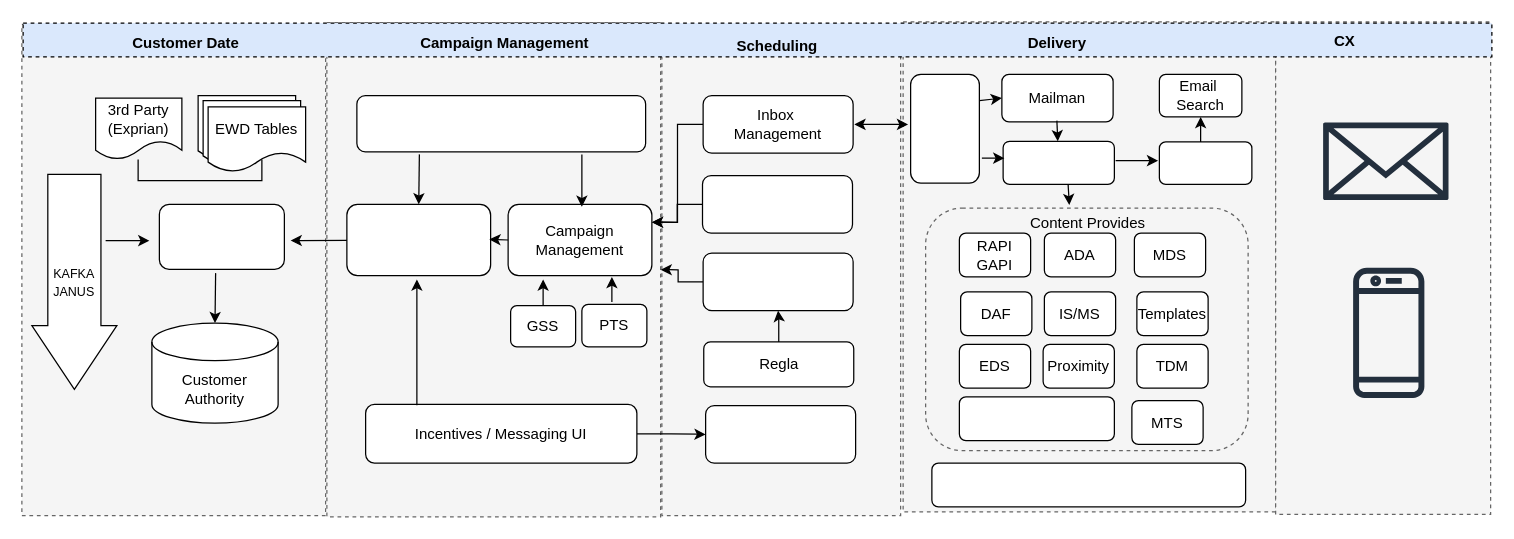
The diagram is 1514 pixels wide and 539 high, and some of its shapes have lost their labels. Here are the shapes that lost their labels. From the top down, the centre of each, then its label:
At (x=501, y=123): "Tetris UI".
At (x=944, y=128): "KAFKA".
At (x=1058, y=162): "Rocketman".
At (x=1205, y=162): "MTA".
At (x=776, y=203): "Cadence Arbitration Service".
At (x=221, y=236): "CA API".
At (x=418, y=239): "Audience Service".
At (x=777, y=281): "Event Delivery Service".
At (x=780, y=433): "Incentives / Messaging Service".
At (x=1036, y=418): "Transaction Triggers".
At (x=1088, y=484): "GroupOn API".
